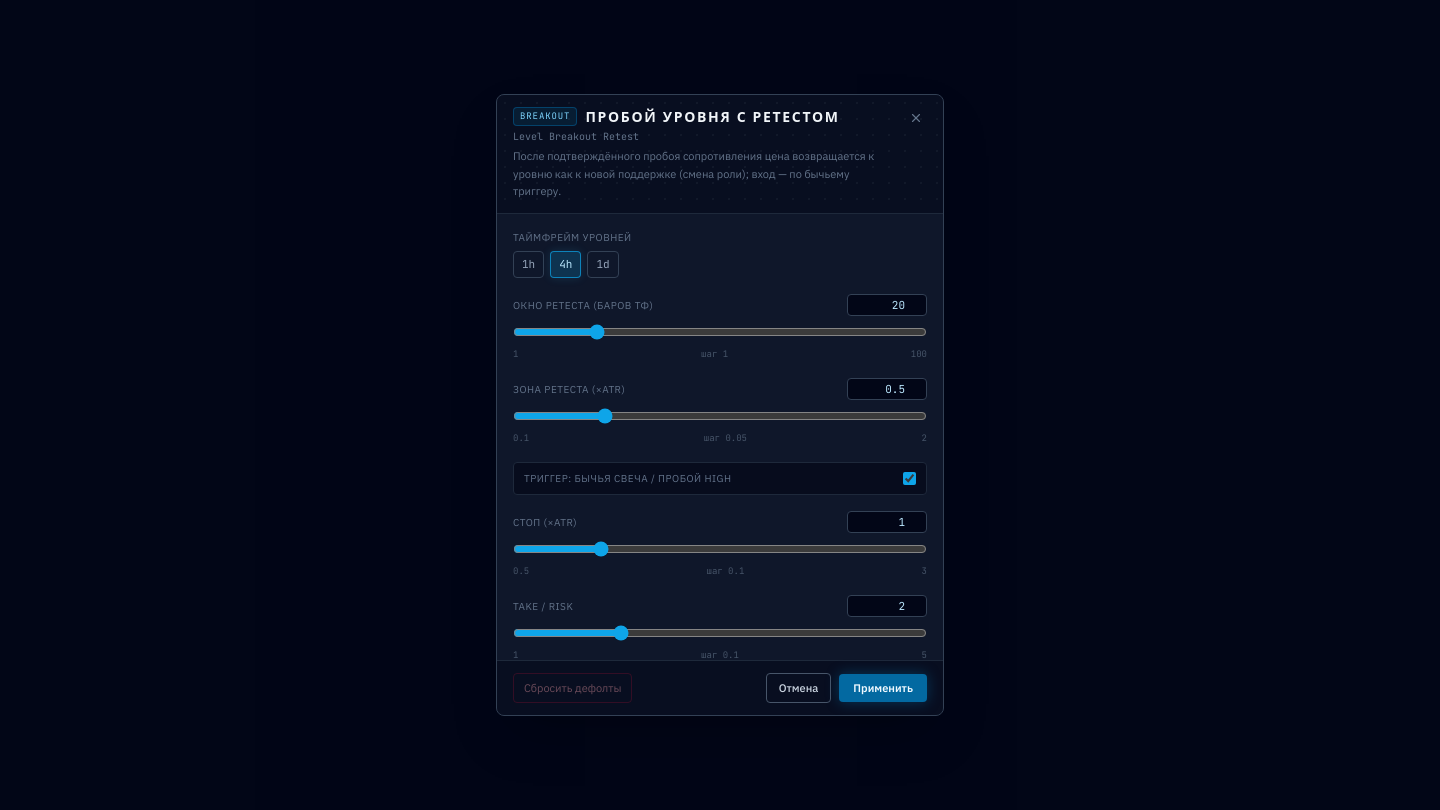
it: PatternSettingsModal · level_breakout_retest › reset restores API defaults
The width and height of the screenshot is (1440, 810).
Replace the text in the number field labelled "Окно ретеста (баров ТФ)" with "7": {"x": 887, "y": 305} [847,294,927,316]
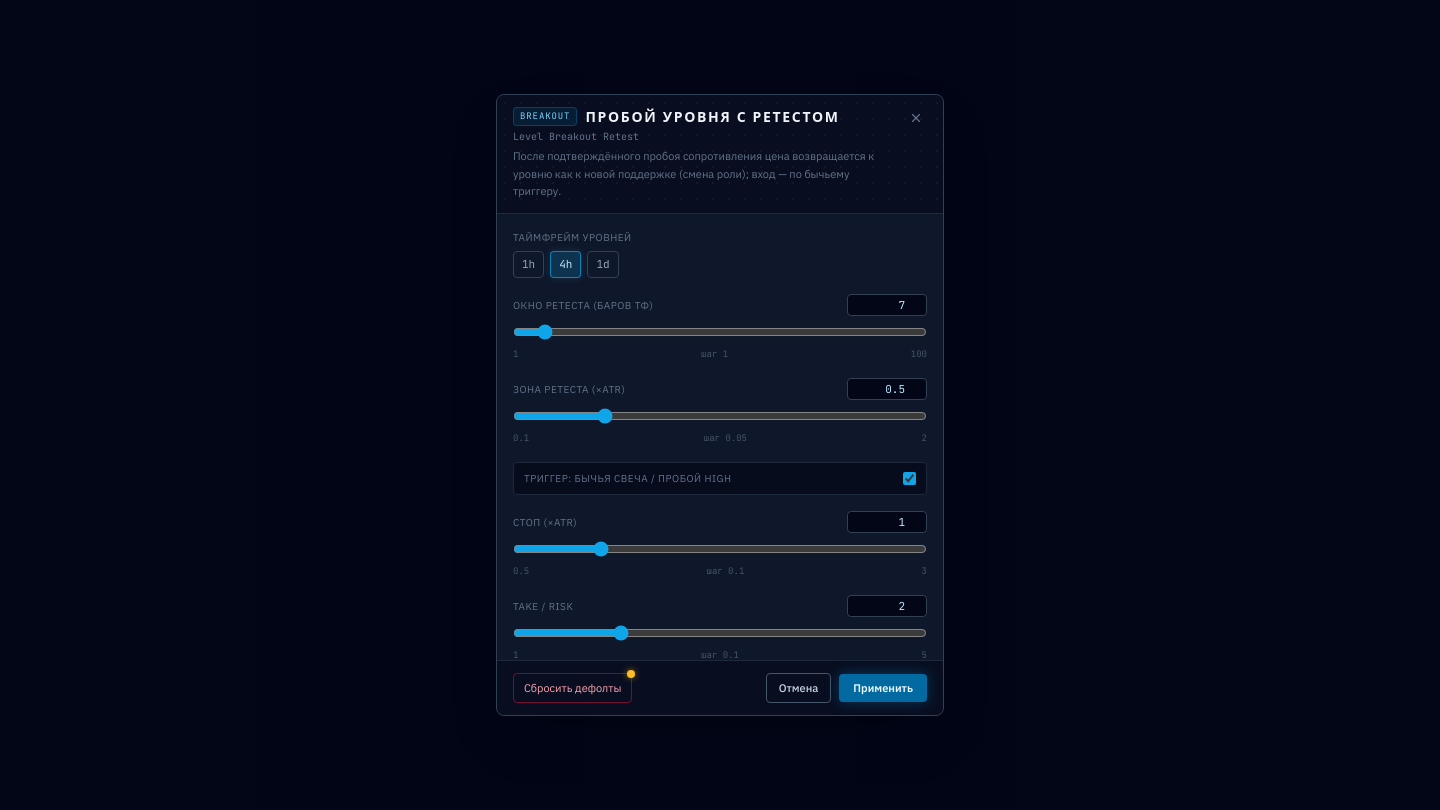
Click the button "Сбросить дефолты": {"x": 573, "y": 688} [513,673,632,703]
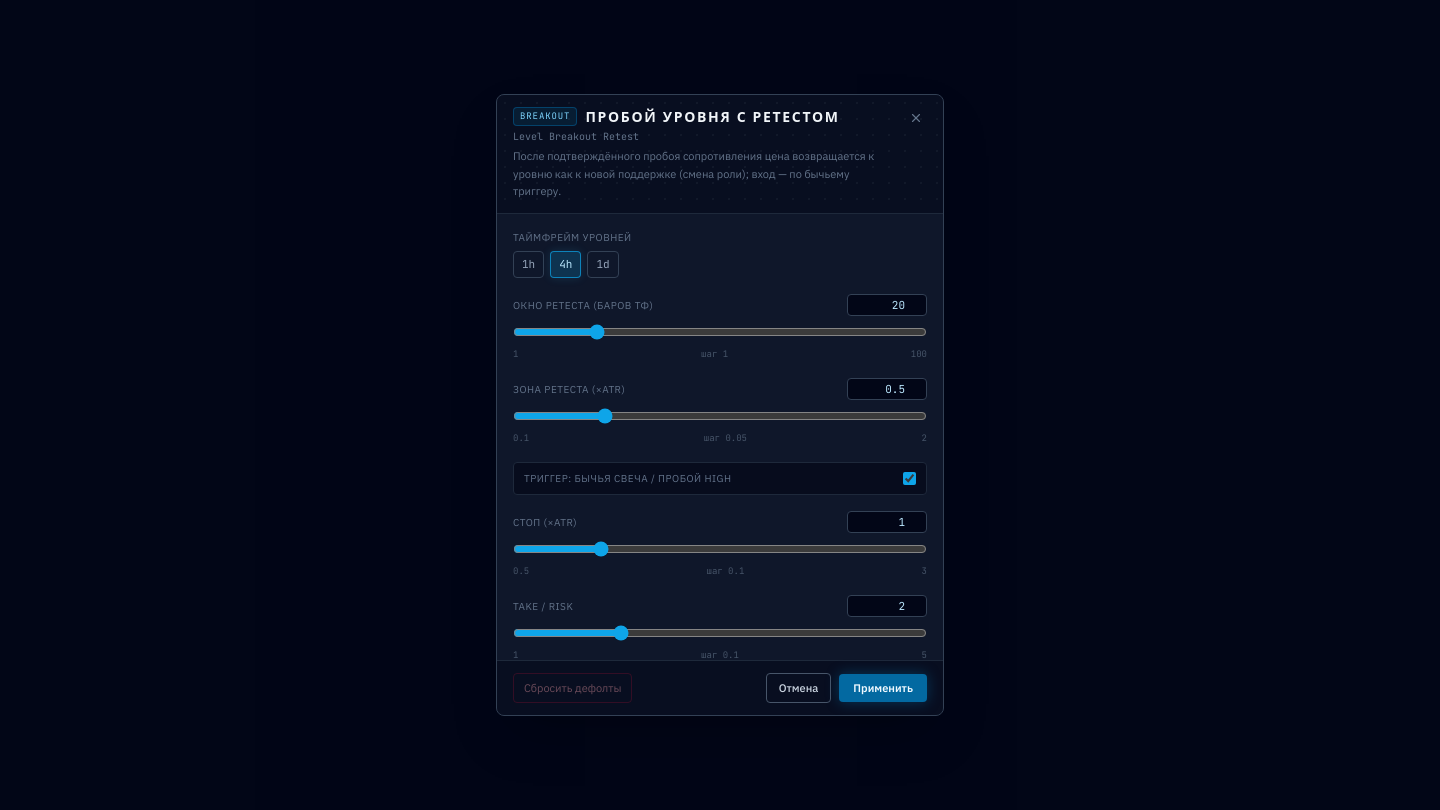
Expected: the number field labelled "Take / risk" holds "2", [847,595,927,617]
Now the number field labelled "Окно ретеста (баров ТФ)" holds "20", box [847,294,927,316]
